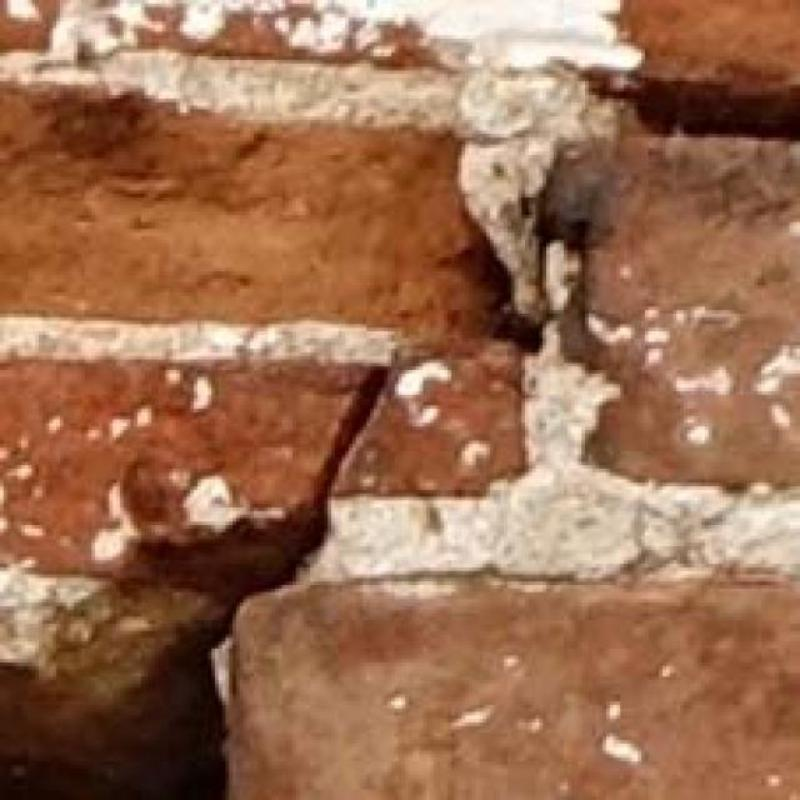pothole: (0, 367, 388, 800), (588, 70, 800, 138)
